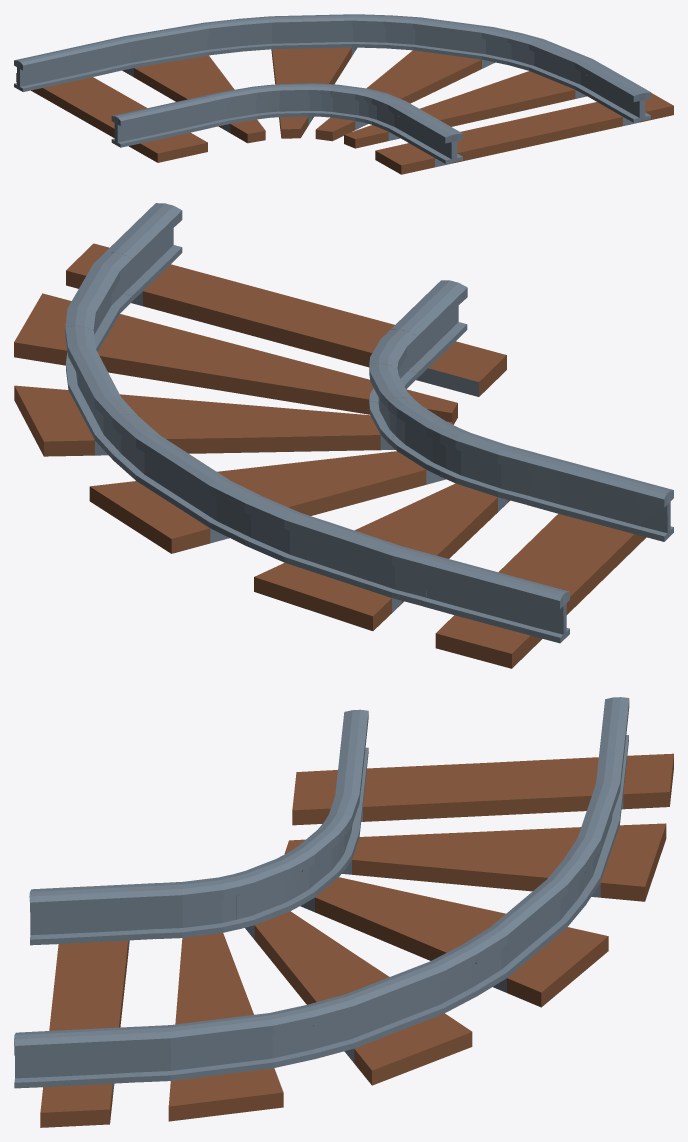
Rendered from trilhoCurvo.glb.
3 renders of one model, top to bottom at view 1: azimuth 30°, elevation 25°; view 2: azimuth 150°, elevation 25°; view 3: azimuth 270°, elevation 25°, orthographic. The views are drawn at different scales.
Parts seen in each view (by area): view 1: trilho_curvo.001; view 2: trilho_curvo.001; view 3: trilho_curvo.001.
Boxes of the visible parts, x1=… form: trilho_curvo.001: x1=14, y1=14, x2=673, y2=174; trilho_curvo.001: x1=14, y1=203, x2=673, y2=668; trilho_curvo.001: x1=14, y1=697, x2=673, y2=1127.
Bounding box in the file's own units: 0.8 × 0.06 × 0.6.
